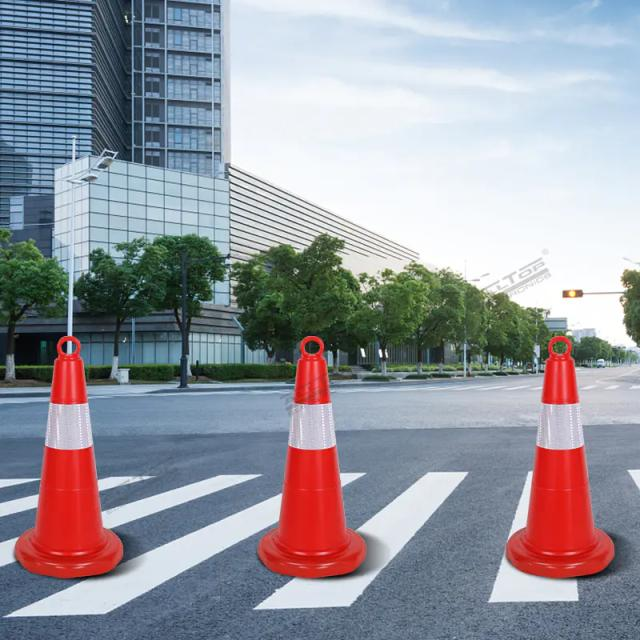Traffic Cone: (230, 302, 408, 600), (472, 316, 640, 628), (0, 278, 162, 592)
